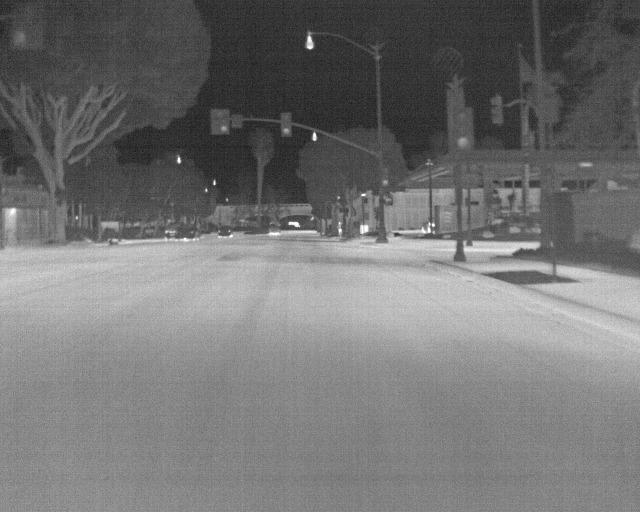car: (165, 225, 195, 239), (421, 220, 436, 233), (218, 226, 232, 237), (269, 224, 281, 234)
light: (13, 1, 39, 46), (454, 109, 469, 149), (212, 110, 228, 132), (490, 97, 500, 123), (522, 138, 531, 162), (381, 166, 389, 187), (283, 114, 290, 135), (383, 198, 393, 205)
sign: (370, 142, 402, 151), (232, 114, 243, 128), (385, 186, 405, 192), (338, 197, 348, 207), (339, 208, 349, 212), (362, 197, 368, 203)
